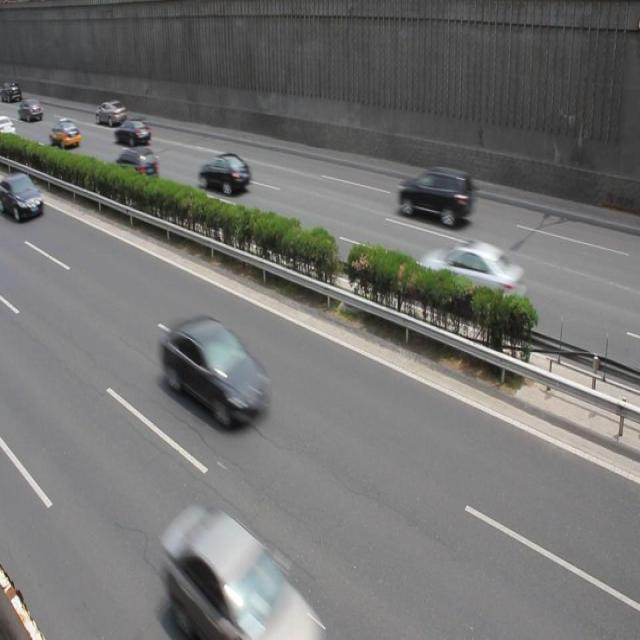car: (160, 506, 313, 640), (159, 314, 271, 430), (419, 242, 525, 325), (395, 167, 476, 228), (198, 153, 250, 198), (0, 172, 44, 225), (114, 145, 160, 189), (114, 116, 150, 149), (95, 99, 127, 130), (50, 119, 81, 150)
